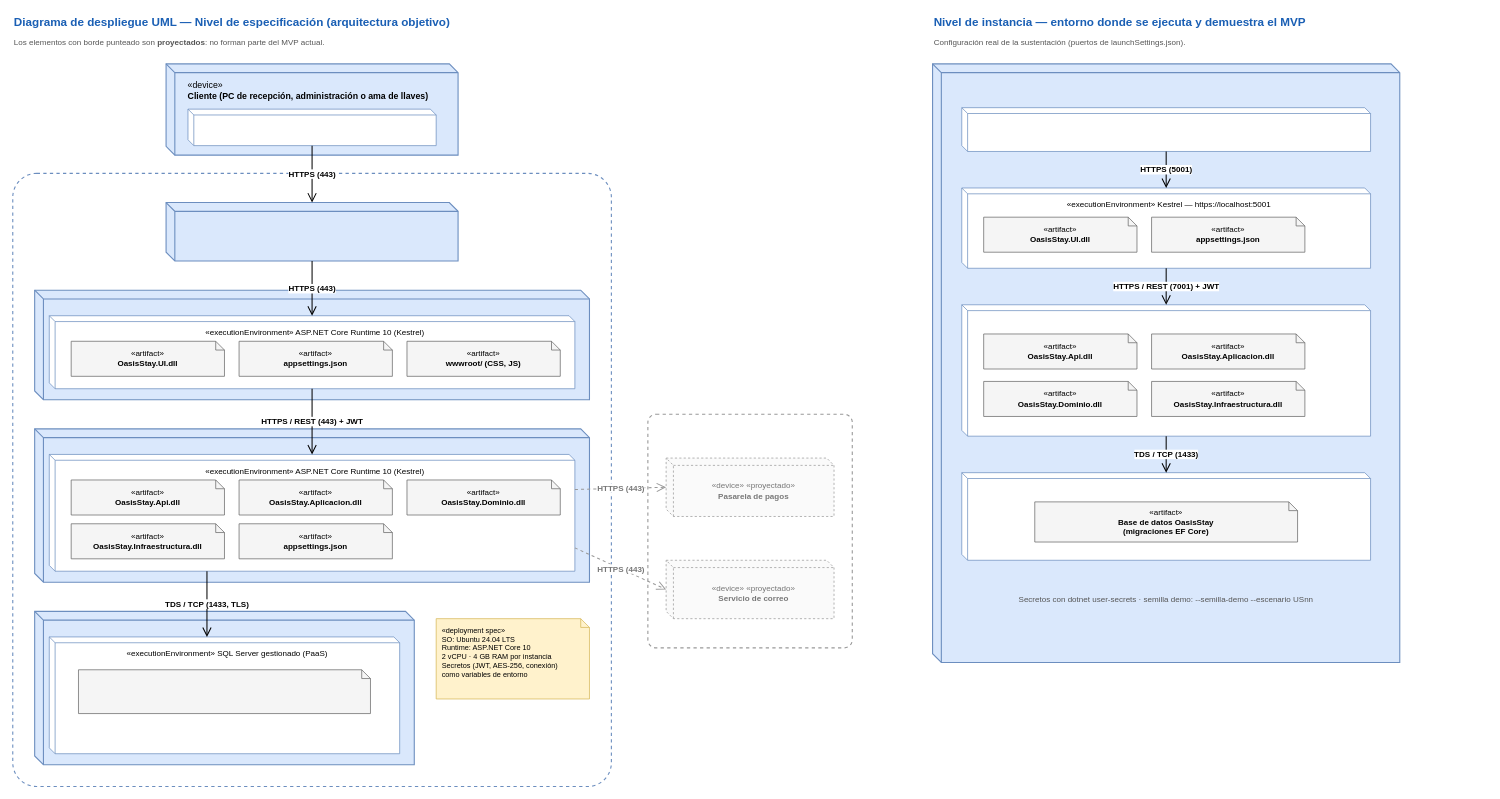
Image size: 1500x799. Some labels were removed from this diagram. The shapes that lost their labels are listed below. From the top down, each one's box as (x1, y1, x2, y2) in pixels, then its label:
(187, 108, 436, 146): «executionEnvironment» Navegador (Chrome / Firefox / Edge)
(961, 107, 1371, 151): «executionEnvironment» Navegador (Chrome / Edge)
(165, 202, 458, 261): «node» Balanceador de carga / proxy inverso terminación TLS y reparto de tráfico
(34, 289, 590, 400): «device» Servidor web [2..N]
(932, 63, 1400, 663): «device» pc-oasis : Windows 11 Pro
(961, 304, 1371, 436): «executionEnvironment» Kestrel — https://localhost:7001
(12, 172, 612, 787): Entorno en la nube
(34, 428, 590, 582): «device» Servidor API [2..N]
(961, 472, 1371, 560): «executionEnvironment» SQL Server 2025 Developer (MSSQLSERVER)
(647, 413, 852, 648): Sistemas externos (proyectados)
(34, 610, 414, 765): «device» Servicio de datos
(78, 669, 370, 714): «artifact» Base de datos OasisStay (esquema por migraciones EF Core)
